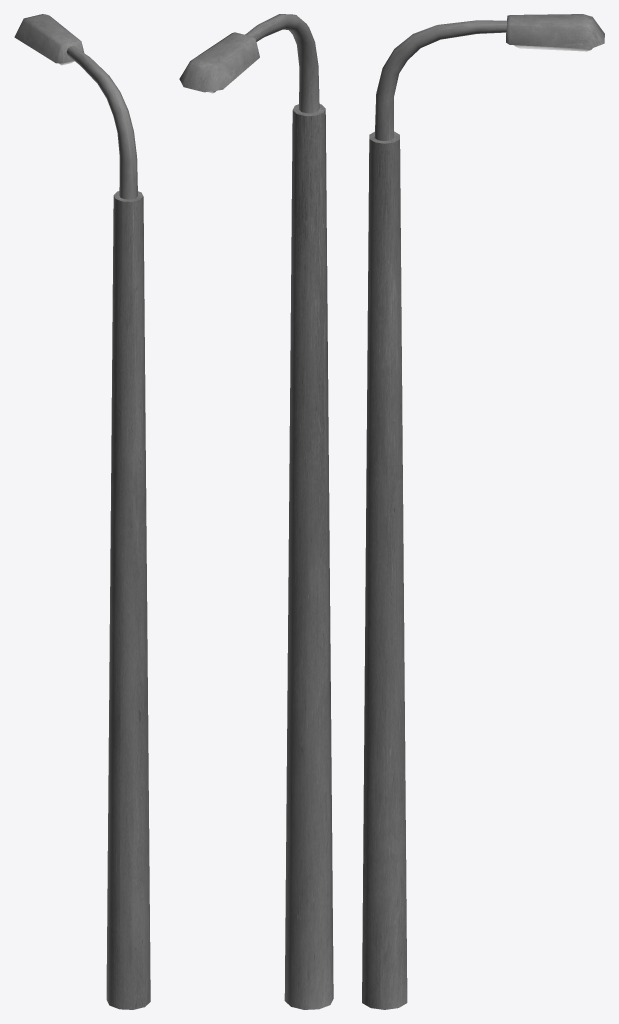
File: StreetLamp.fbx
3 views of the same model, side by side, from view 1: azimuth 30°, elevation 25°; view 2: azimuth 150°, elevation 25°; view 3: azimuth 270°, elevation 25° (orthographic). The views are drawn at different scales.
Visible parts, largest first — view 1: StreetLamp; view 2: StreetLamp; view 3: StreetLamp.
Boxes of the visible parts, x1,y1,x2,y2 form: StreetLamp: [14, 14, 150, 1009]; StreetLamp: [179, 14, 333, 1009]; StreetLamp: [362, 14, 604, 1009].
Bounding box in the file's own units: 21.1 × 455 × 102.
